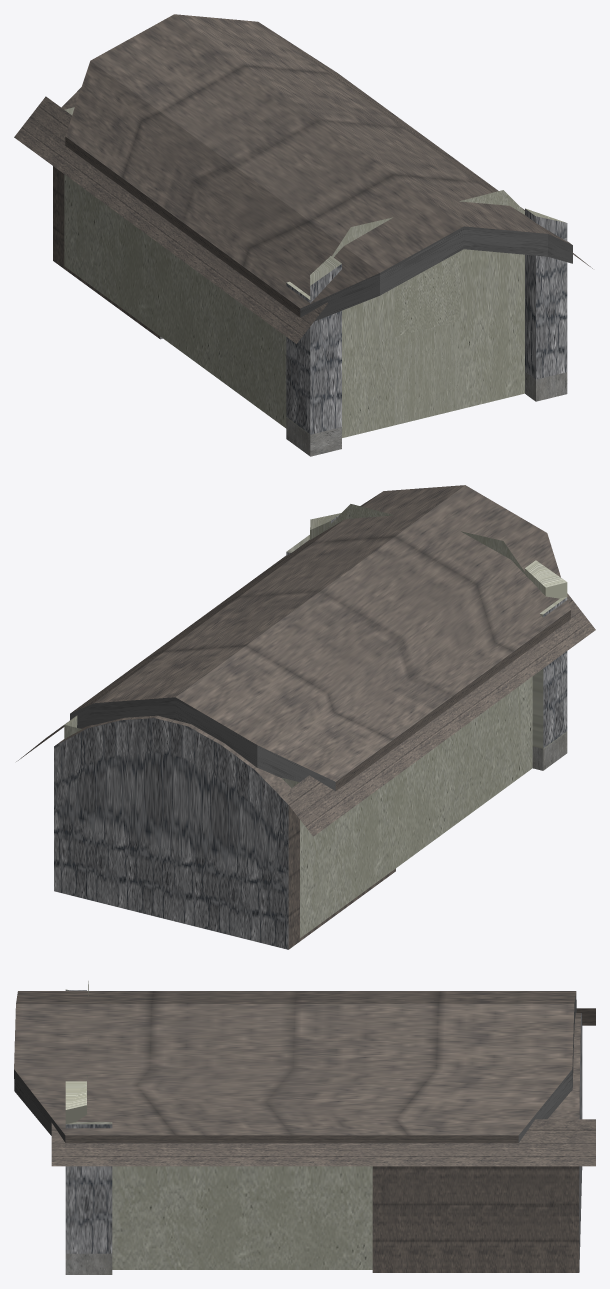
Rendered from CHAPEL.fbx.
3 renders of one model, top to bottom at view 1: azimuth 30°, elevation 25°; view 2: azimuth 150°, elevation 25°; view 3: azimuth 270°, elevation 25°, orthographic. The views are drawn at different scales.
Parts seen in each view (by area): view 1: Chapel.014; view 2: Chapel.014; view 3: Chapel.014.
Part boxes in pixels (left/top/right/bottom): Chapel.014: left=14, top=14, right=592, bottom=456; Chapel.014: left=16, top=485, right=595, bottom=949; Chapel.014: left=14, top=981, right=595, bottom=1274.
Bounding box in the file's own units: 3548 × 2504 × 6199.
2 materials, 2 textured.
